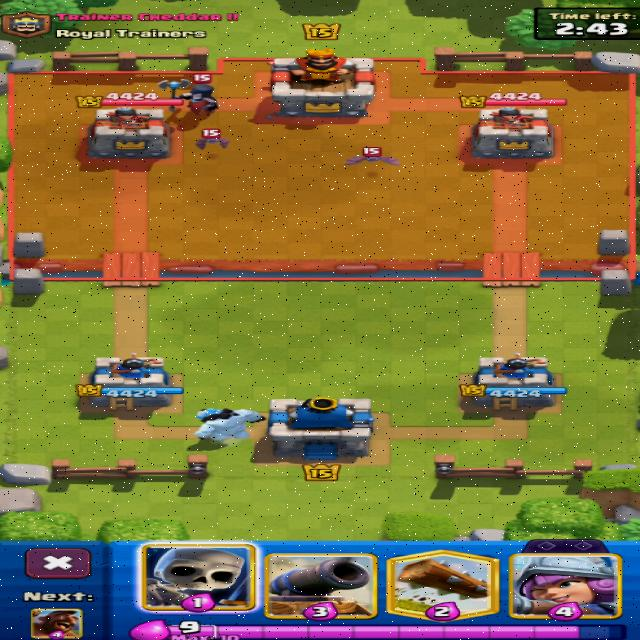Enemy-Bat: (346, 147, 399, 164), (196, 129, 228, 148)
Enemy-KingTower: (269, 49, 374, 116)
Enemy-NightWitch: (158, 79, 216, 116)
Enemy-PrincessTower: (472, 107, 552, 158), (89, 107, 168, 158)
Player-IceGolem: (194, 408, 263, 441)
Player-KingTower: (268, 397, 373, 460)
Player-PrincessTower: (76, 354, 183, 410), (461, 353, 566, 410)
